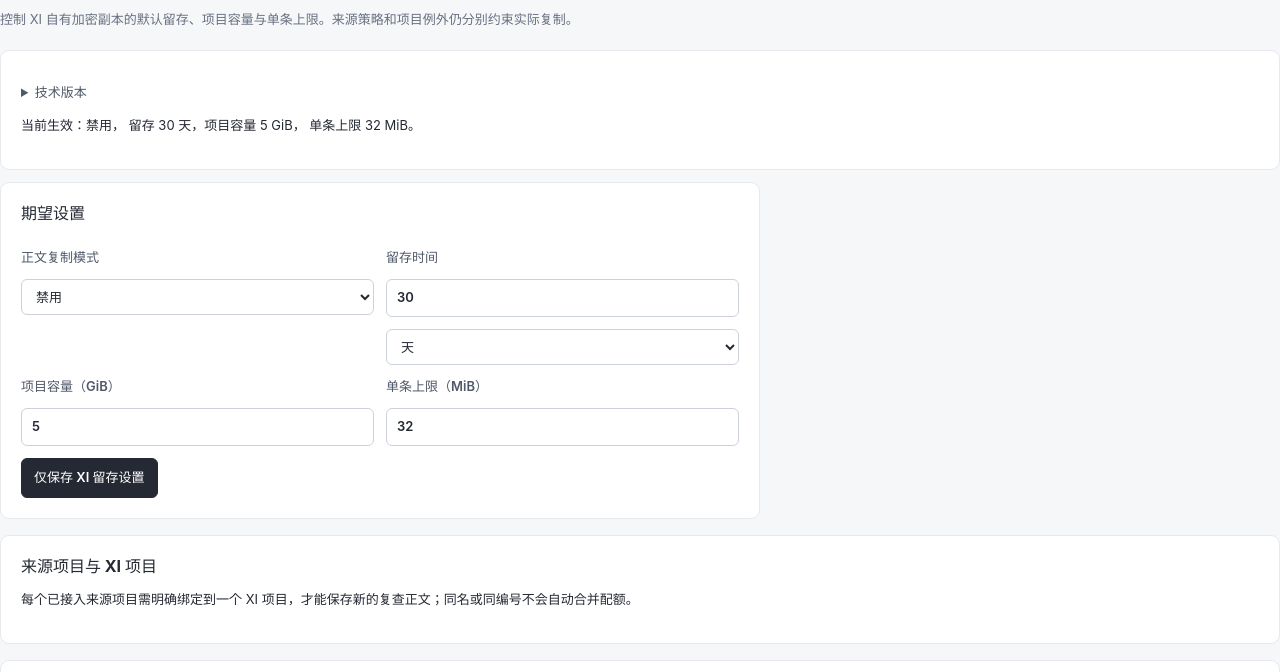
Test case: routes a paired mode change to enterprise joint save and preserves the XI numeric draft
This screenshot has width=1280, height=672.
Select "允许完整正文" in the dropdown labelled "正文复制模式" at {"x": 198, "y": 297}, box [21,279,374,315]
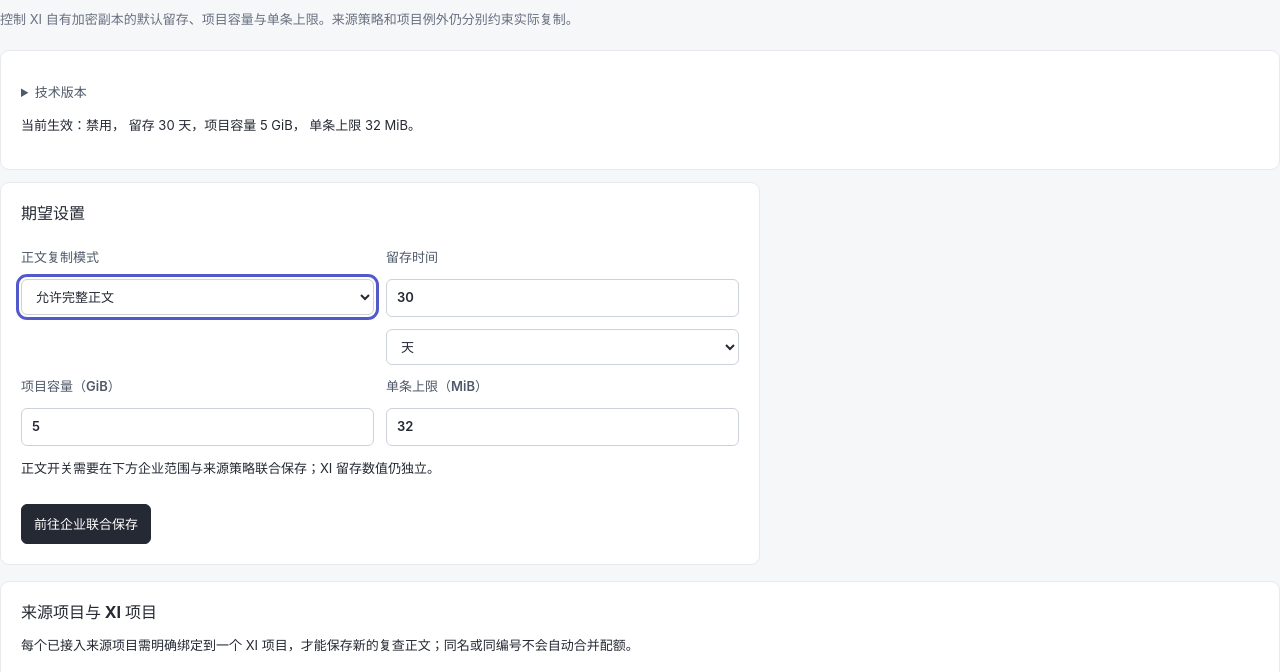
Replace the text in the number field labelled "项目容量（GiB）" with "3" at {"x": 198, "y": 427}, box [21,408,374,446]
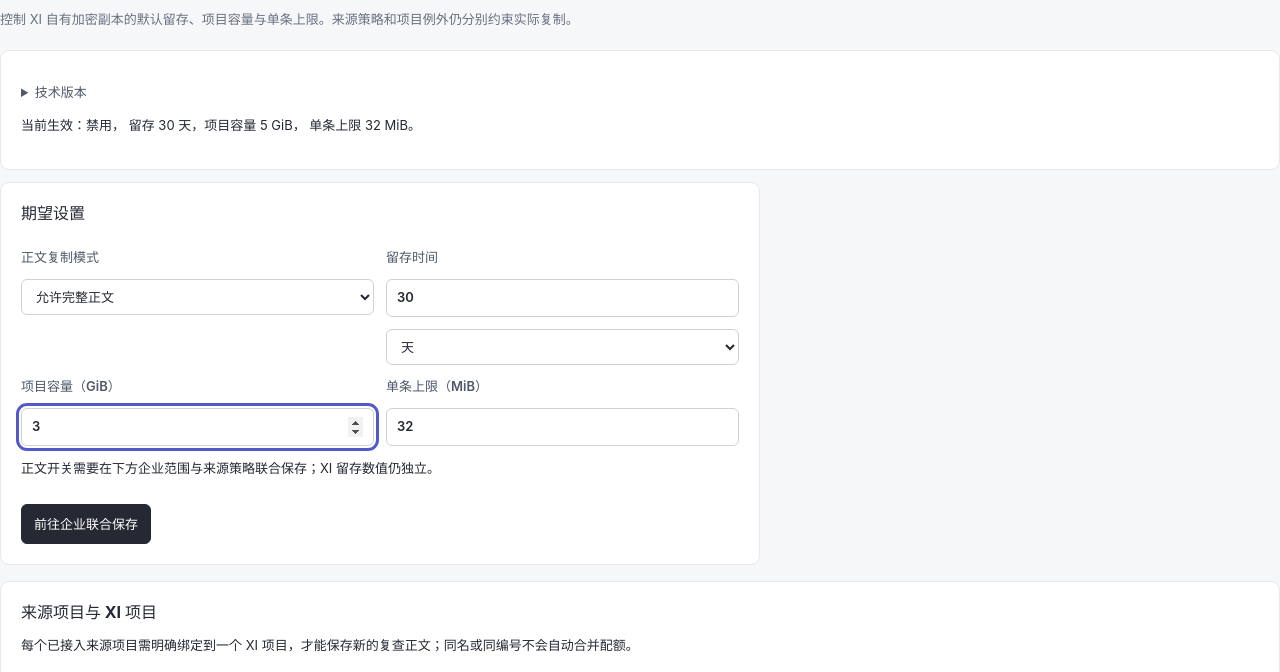
Click the button "前往企业联合保存" at {"x": 86, "y": 524}, box [21,504,151,544]
(page scrolled)
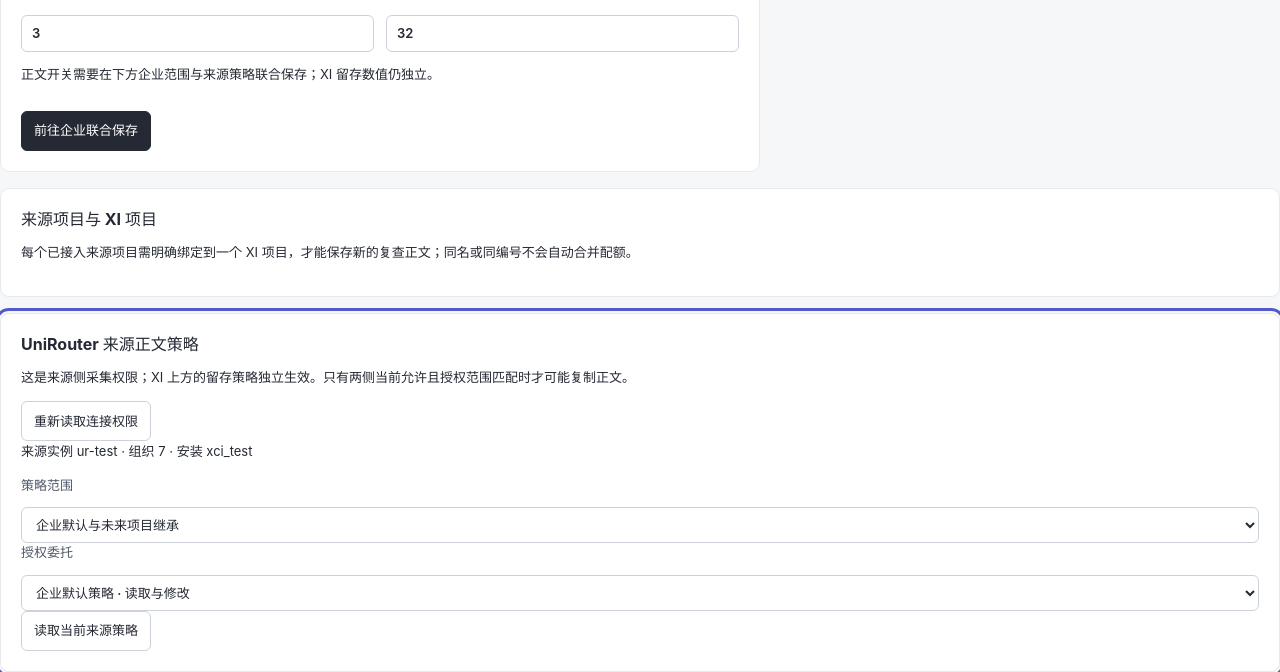
Expected: the dropdown labelled "策略范围" shows "企业默认与未来项目继承", [21,507,1259,543]
Select "企业默认策略 · 读取与修改" in the dropdown labelled "授权委托" at {"x": 640, "y": 593}, box [21,575,1259,611]
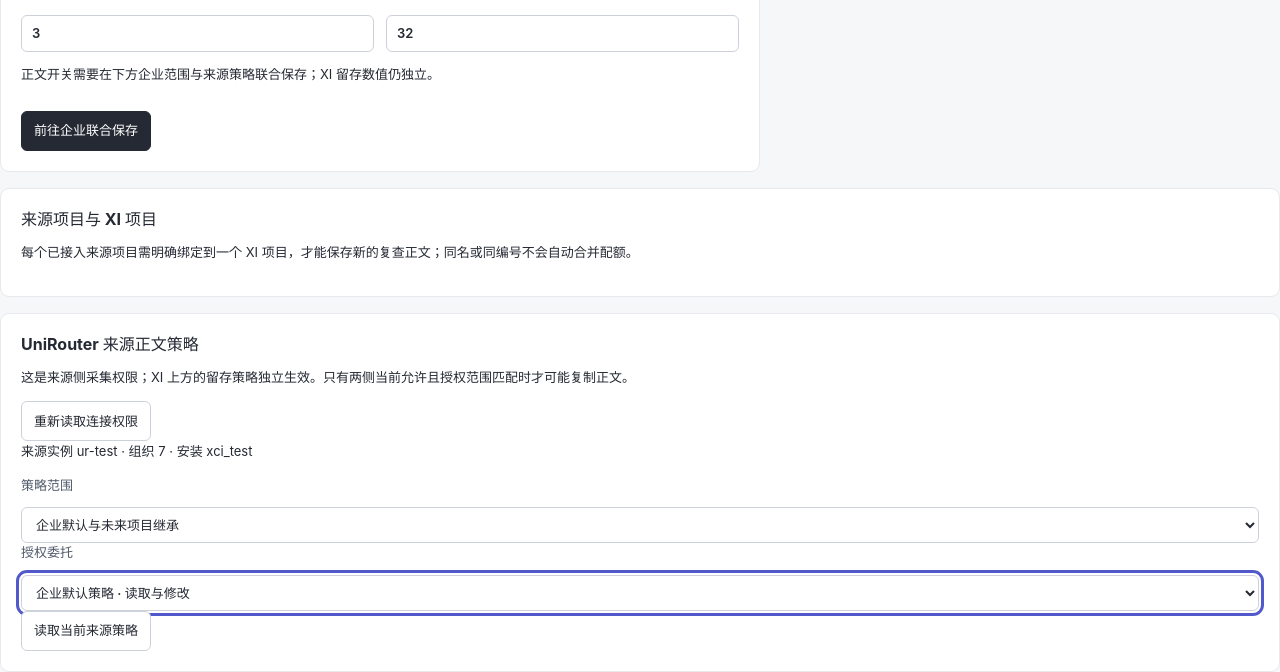
Click the button "读取当前来源策略" at {"x": 86, "y": 631}, box [21,611,151,651]
(page scrolled)
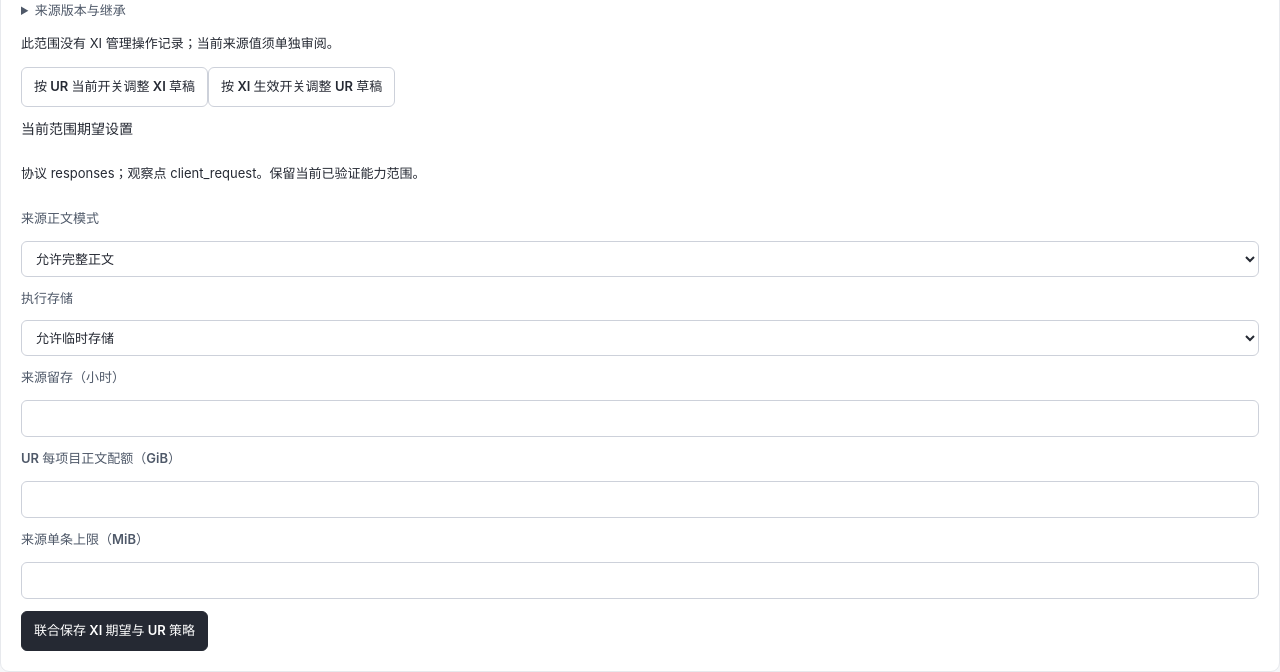
Result: the button "联合保存 XI 期望与 UR 策略" is shown at [21,611,208,651]
